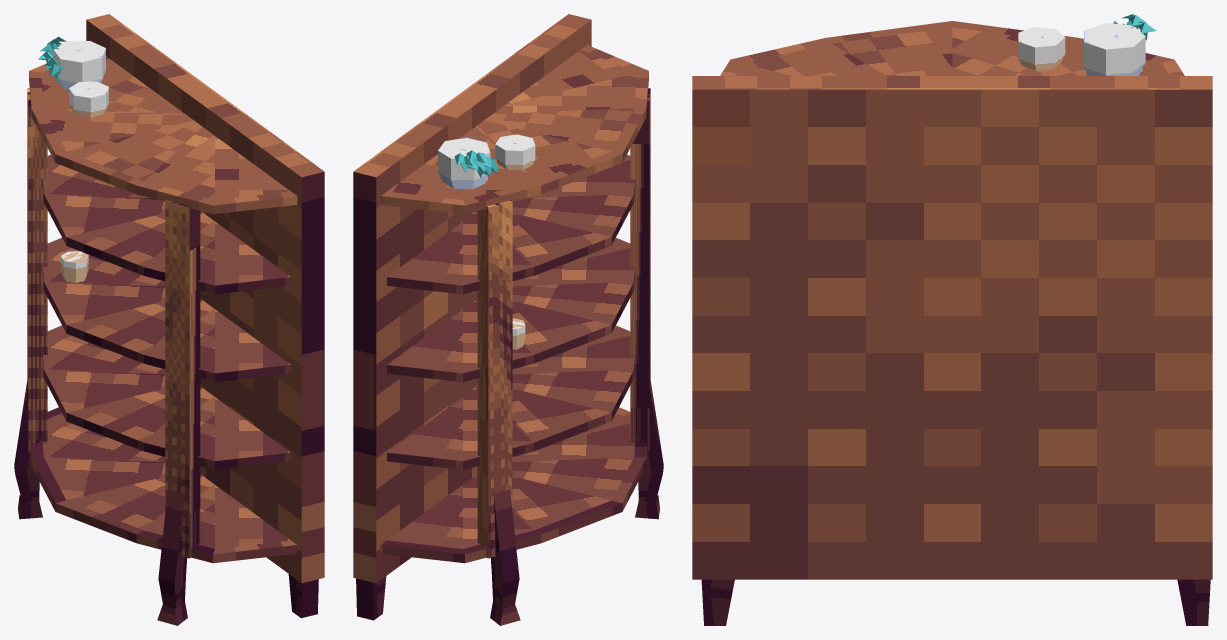
Rendered from cabinet.gltf.
3 views of the same model, side by side, from view 1: azimuth 30°, elevation 25°; view 2: azimuth 150°, elevation 25°; view 3: azimuth 270°, elevation 25° (orthographic). The views are drawn at different scales.
Parts seen in each view (by area): view 1: cylinder (×8), cube, cuboid (×8); view 2: cylinder (×7), cube, cuboid (×8); view 3: cube, cylinder (×3), cuboid (×2).
Part boxes in pixels (<box>): cylinder (×8): <box>29,41,297,563</box>; cube: <box>86,14,324,583</box>; cuboid (×8): <box>14,88,318,625</box>; cylinder (×7): <box>380,45,648,563</box>; cube: <box>353,14,591,583</box>; cuboid (×8): <box>356,88,663,625</box>; cube: <box>692,76,1212,579</box>; cylinder (×3): <box>720,21,1184,75</box>; cuboid (×2): <box>701,579,1210,625</box>.
Bounding box in the file's own units: 0.4817 × 1.32 × 1.11.
Materials: 3 (3 with a texture image).
